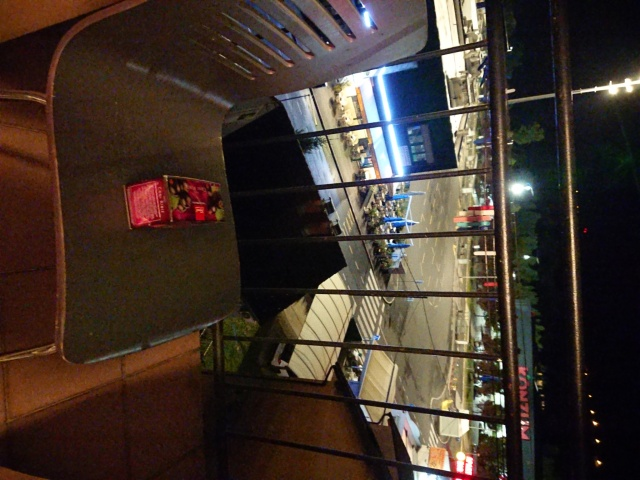Franck Black Currant Tea 60g: (120, 172, 227, 233)
